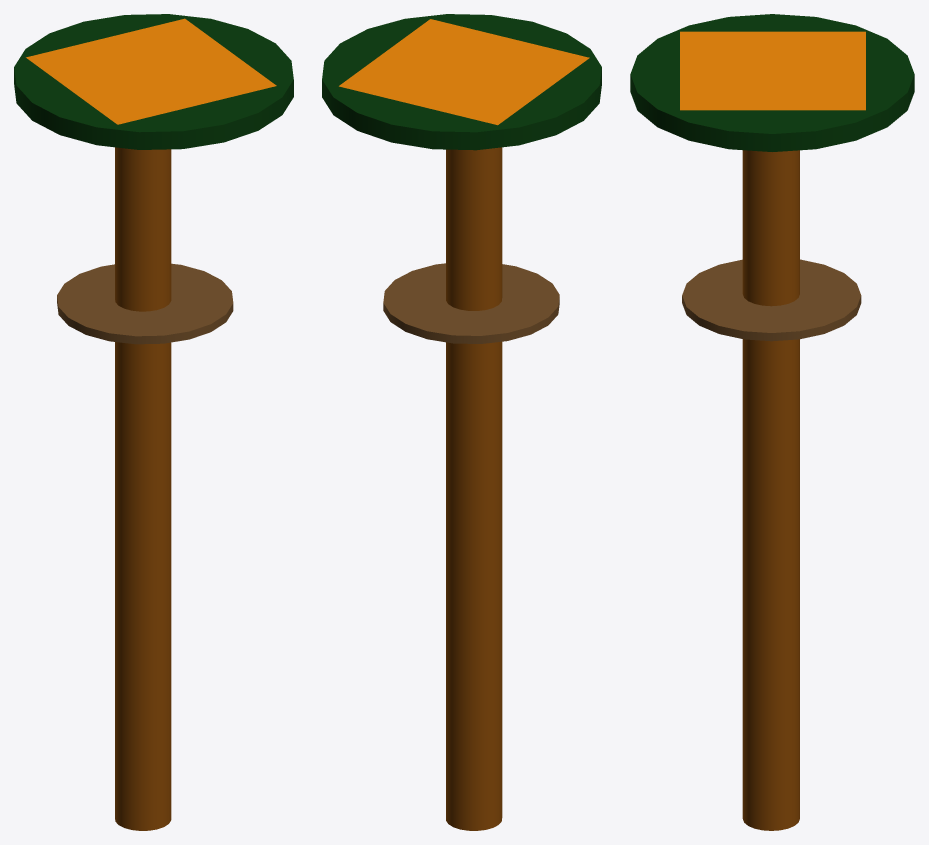
File: Junction 07.fbx
3 renders of one model, left to right at view 1: azimuth 30°, elevation 25°; view 2: azimuth 150°, elevation 25°; view 3: azimuth 270°, elevation 25°, orthographic.
Visible parts, largest first — view 1: Tree_02__1_, Branches, Plane__2_, Platform__2_; view 2: Tree_02__1_, Branches, Plane__2_, Platform__2_; view 3: Tree_02__1_, Branches, Plane__2_, Platform__2_.
Boxes of the visible parts, box(x1,y1,x2,y2) form: Tree_02__1_: box(115, 147, 171, 830); Branches: box(14, 14, 293, 149); Plane__2_: box(26, 18, 276, 124); Platform__2_: box(57, 263, 233, 344); Tree_02__1_: box(446, 147, 502, 830); Branches: box(322, 14, 601, 150); Plane__2_: box(339, 19, 589, 125); Platform__2_: box(383, 263, 559, 343); Tree_02__1_: box(742, 150, 799, 830); Branches: box(630, 14, 914, 151); Plane__2_: box(680, 31, 865, 110); Platform__2_: box(682, 259, 861, 341).
Size of the model in its own units: 3314 by 9682 by 3314.
